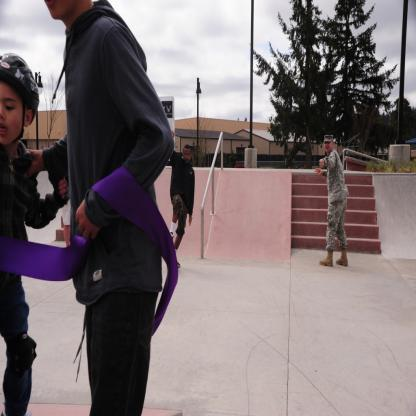Helmet: (0, 51, 37, 146)
